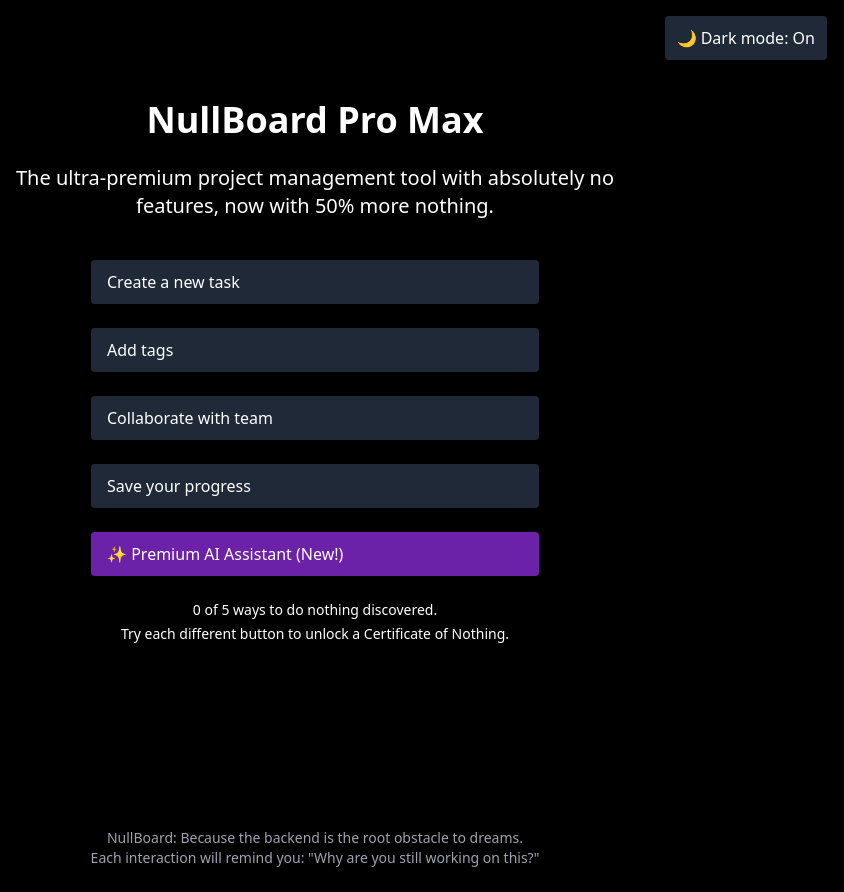
Test: shares a stable repository link without leaking the current address
The image size is (844, 892).
What coordinates should you click on to do the following:
click the button "Create a new task"
I would click on:
 (173, 282)
Its box is [91, 260, 539, 304].
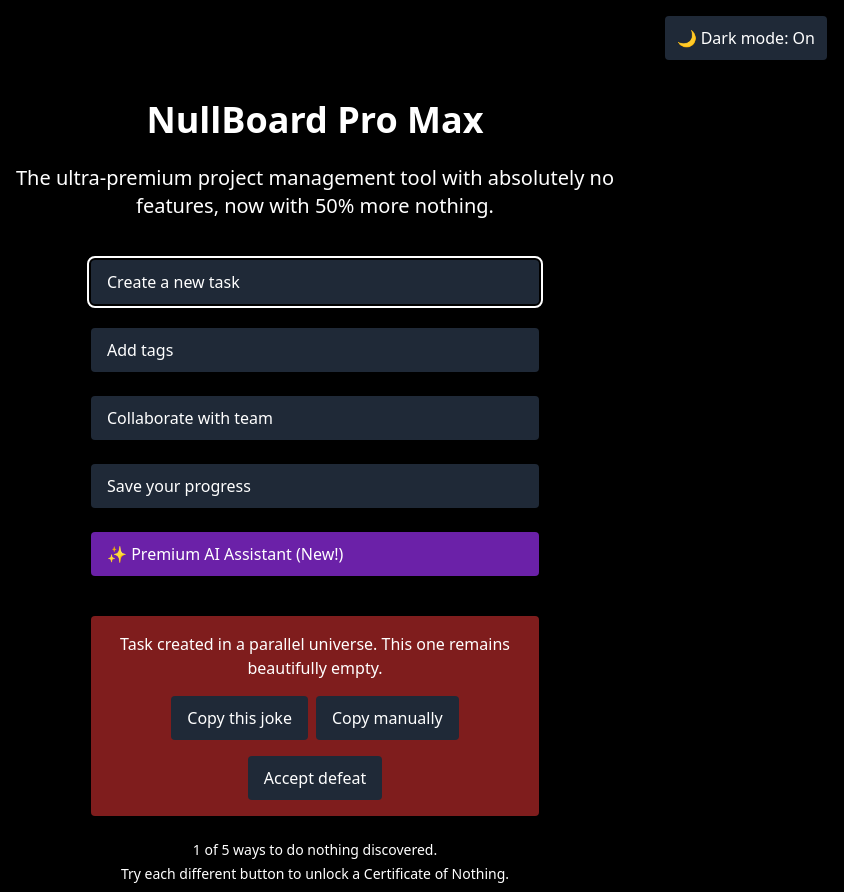
What coordinates should you click on to do the following:
click the button "Copy this joke"
I would click on:
 (240, 718)
Its box is [171, 696, 308, 740].
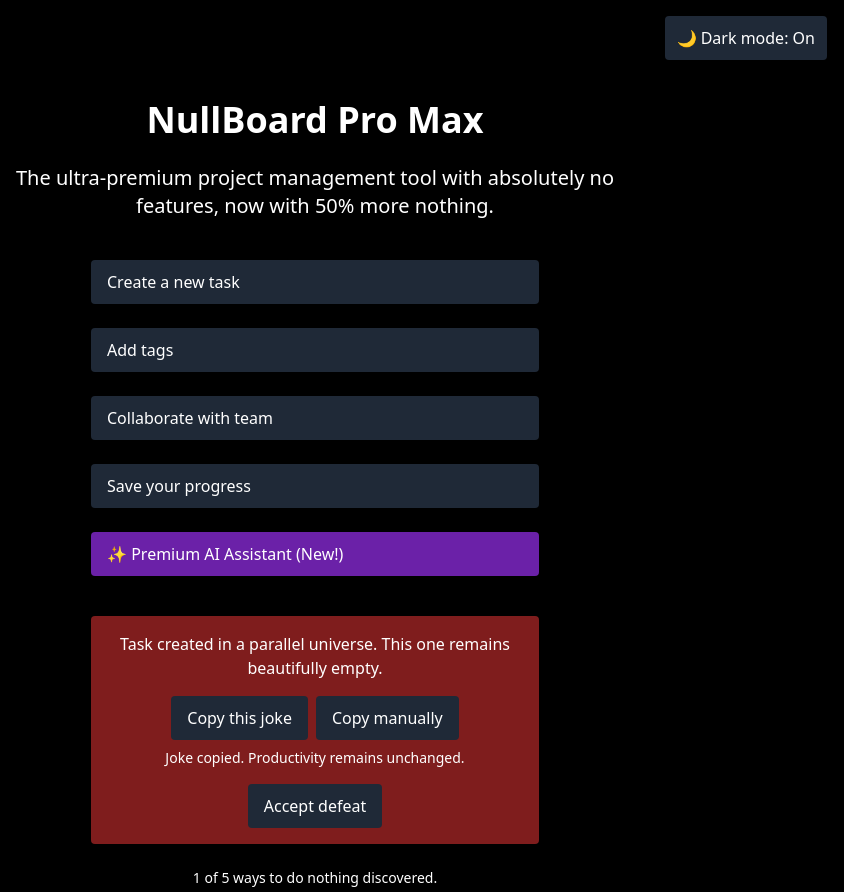
Check: the text "Joke copied. Productivity remains unchanged." is shown, box [165, 748, 465, 767]
